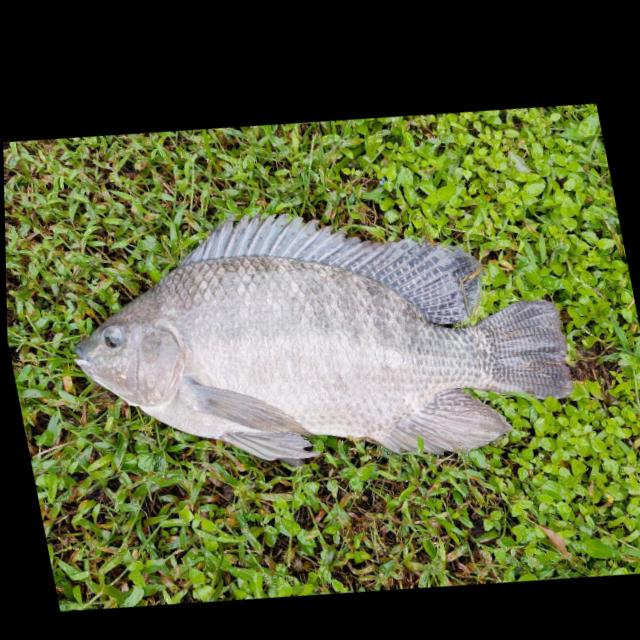Tilapia: (47, 136, 589, 533)
